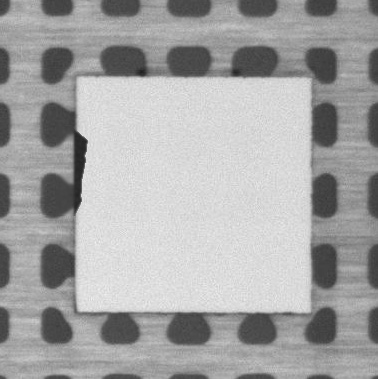DIE_BROKEN: (71, 130, 90, 213)
